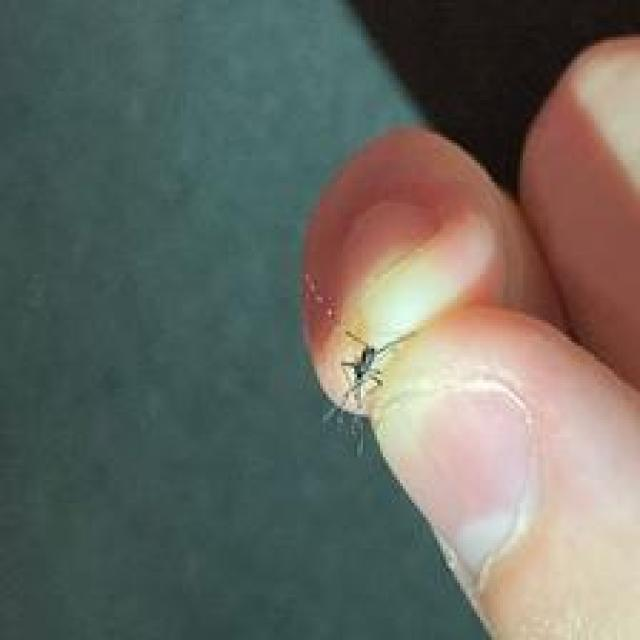Aedes albopictus: (320, 324, 417, 456)
